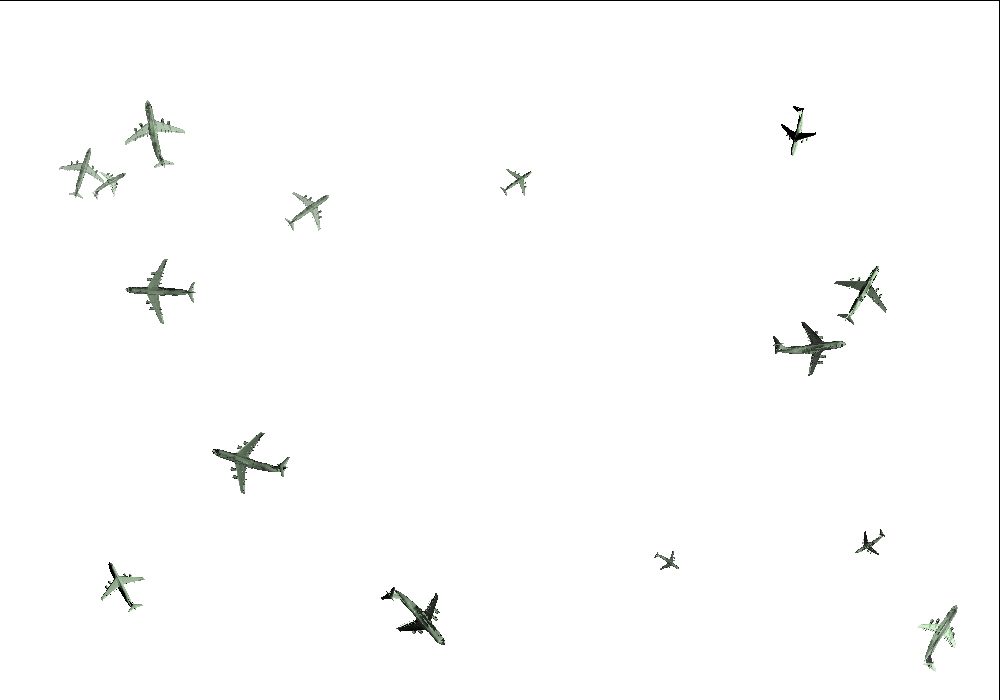plane: (364, 565, 467, 670), (201, 412, 298, 506), (899, 592, 985, 682), (819, 250, 904, 337), (115, 93, 194, 174), (768, 307, 850, 382), (86, 550, 157, 622), (123, 256, 197, 325), (273, 175, 342, 244), (51, 140, 113, 204), (768, 100, 824, 160), (83, 159, 134, 209), (492, 157, 541, 205), (847, 520, 893, 565), (648, 543, 686, 581)
